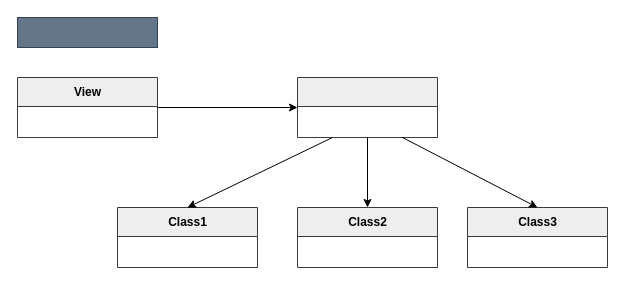
This 625x285 diagram has some shape labels left out. The centre of each missing label's shape, as x and y in pixels:
Facade: [367,107]
Facade Pattern: [87,32]
